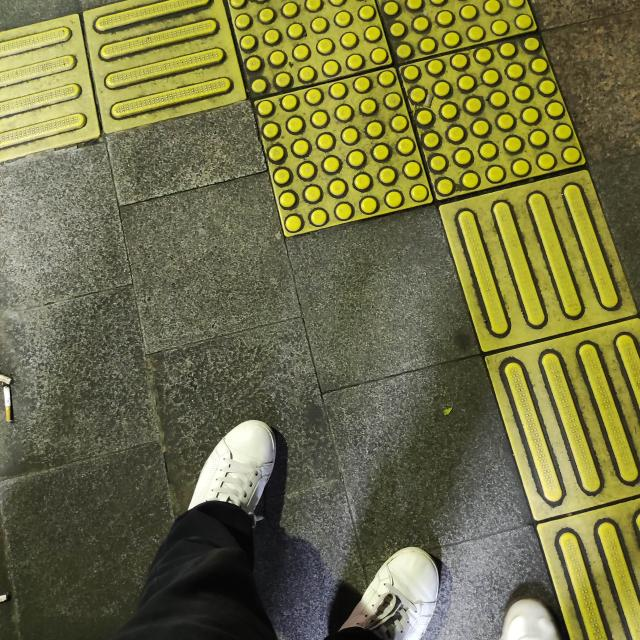kiri: (7, 0, 639, 273)
